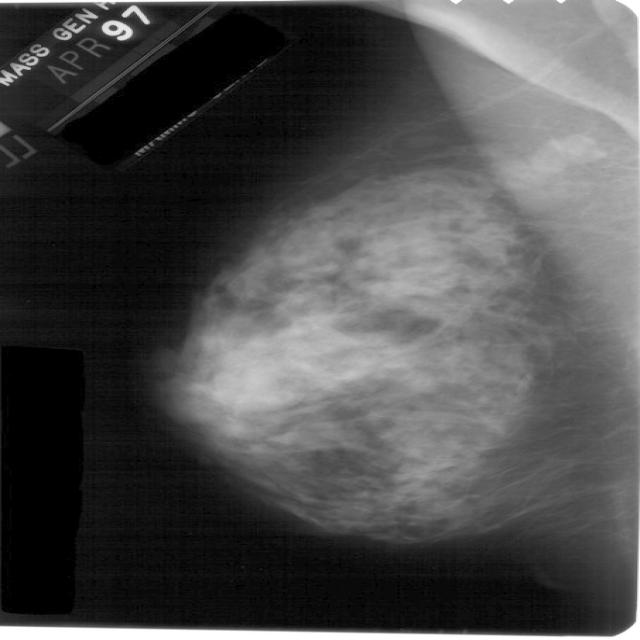tumour: (441, 288, 502, 321)
